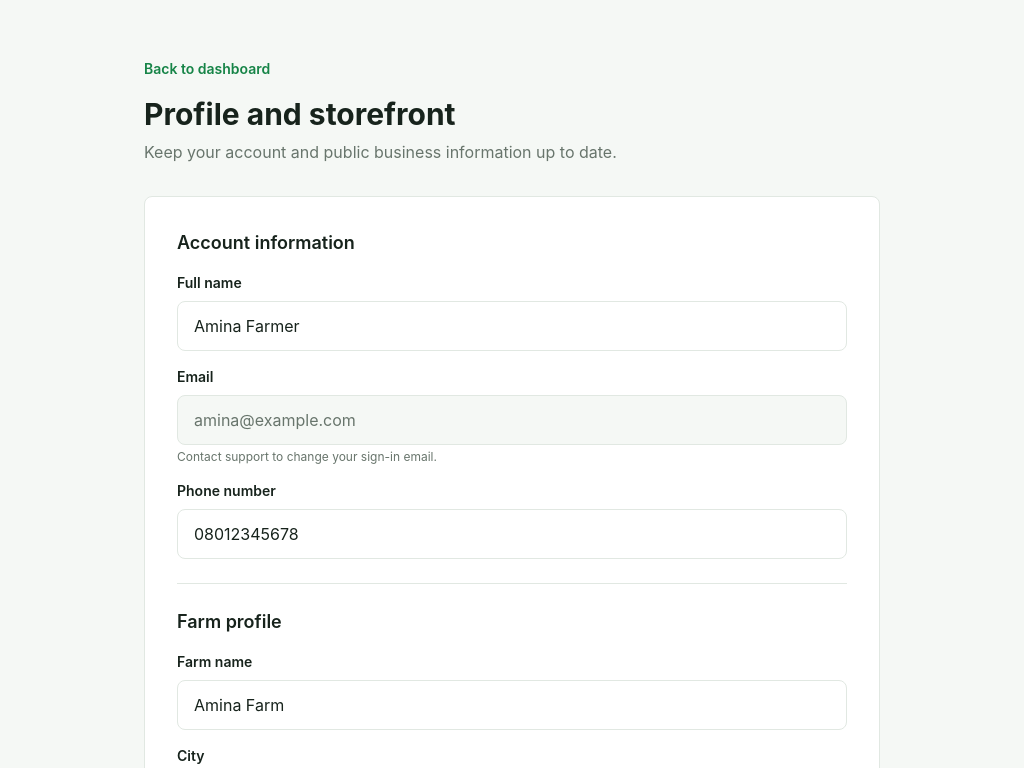
Test: Profile page › submits edited account and farm details and displays the save error
Replace the text in the field labelled "Full name" with "Amina Okafor" at (512, 326), box [177,301,847,351]
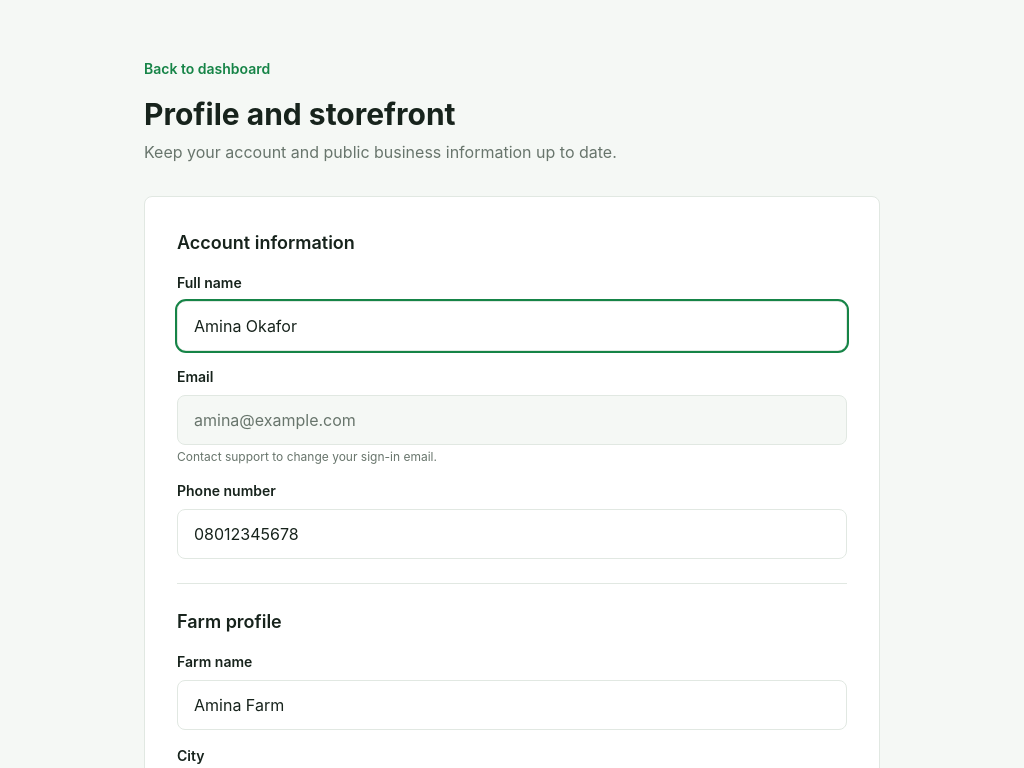
Replace the text in the field labelled "Farm name" with "Green Valley Farm" at (512, 705), box [177,680,847,730]
(page scrolled)
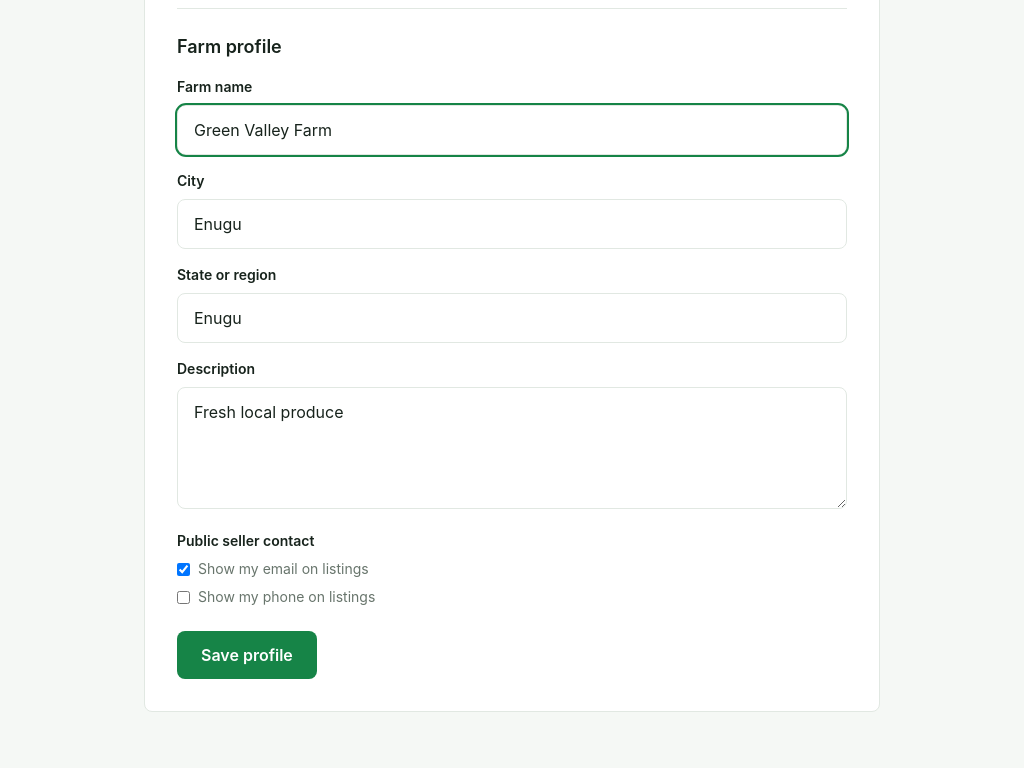
Click the button "Save profile".
click(247, 655)  # box [177,631,317,679]
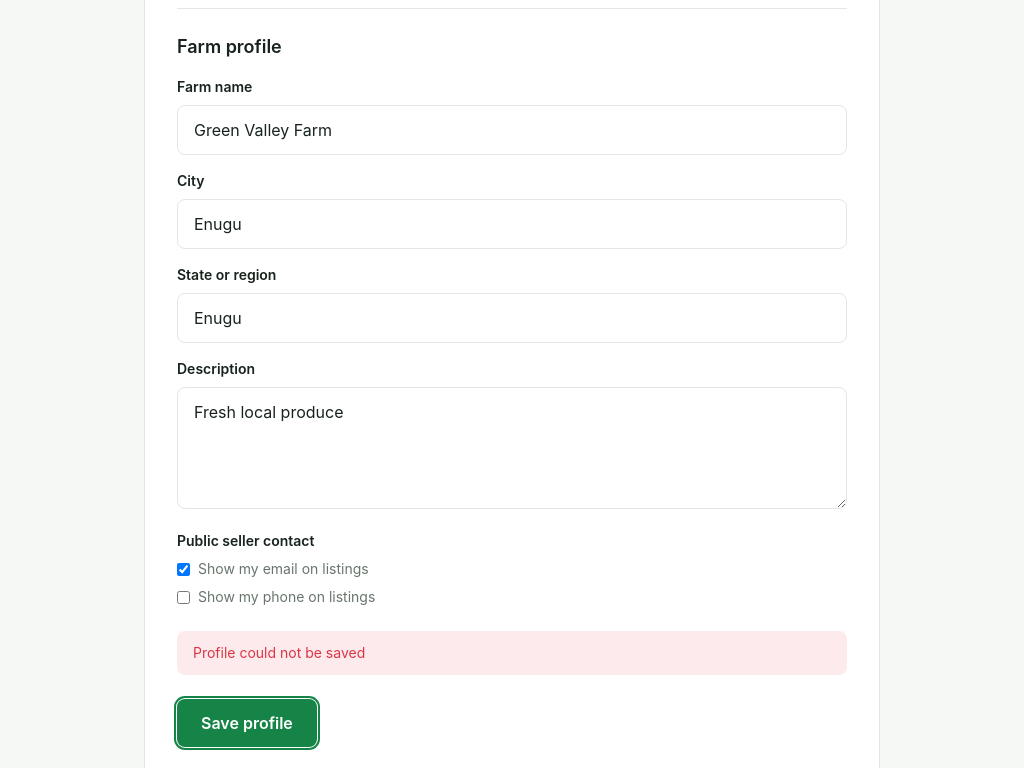
expect the message reads "Profile could not be saved": met, box [193,644,365,661]
